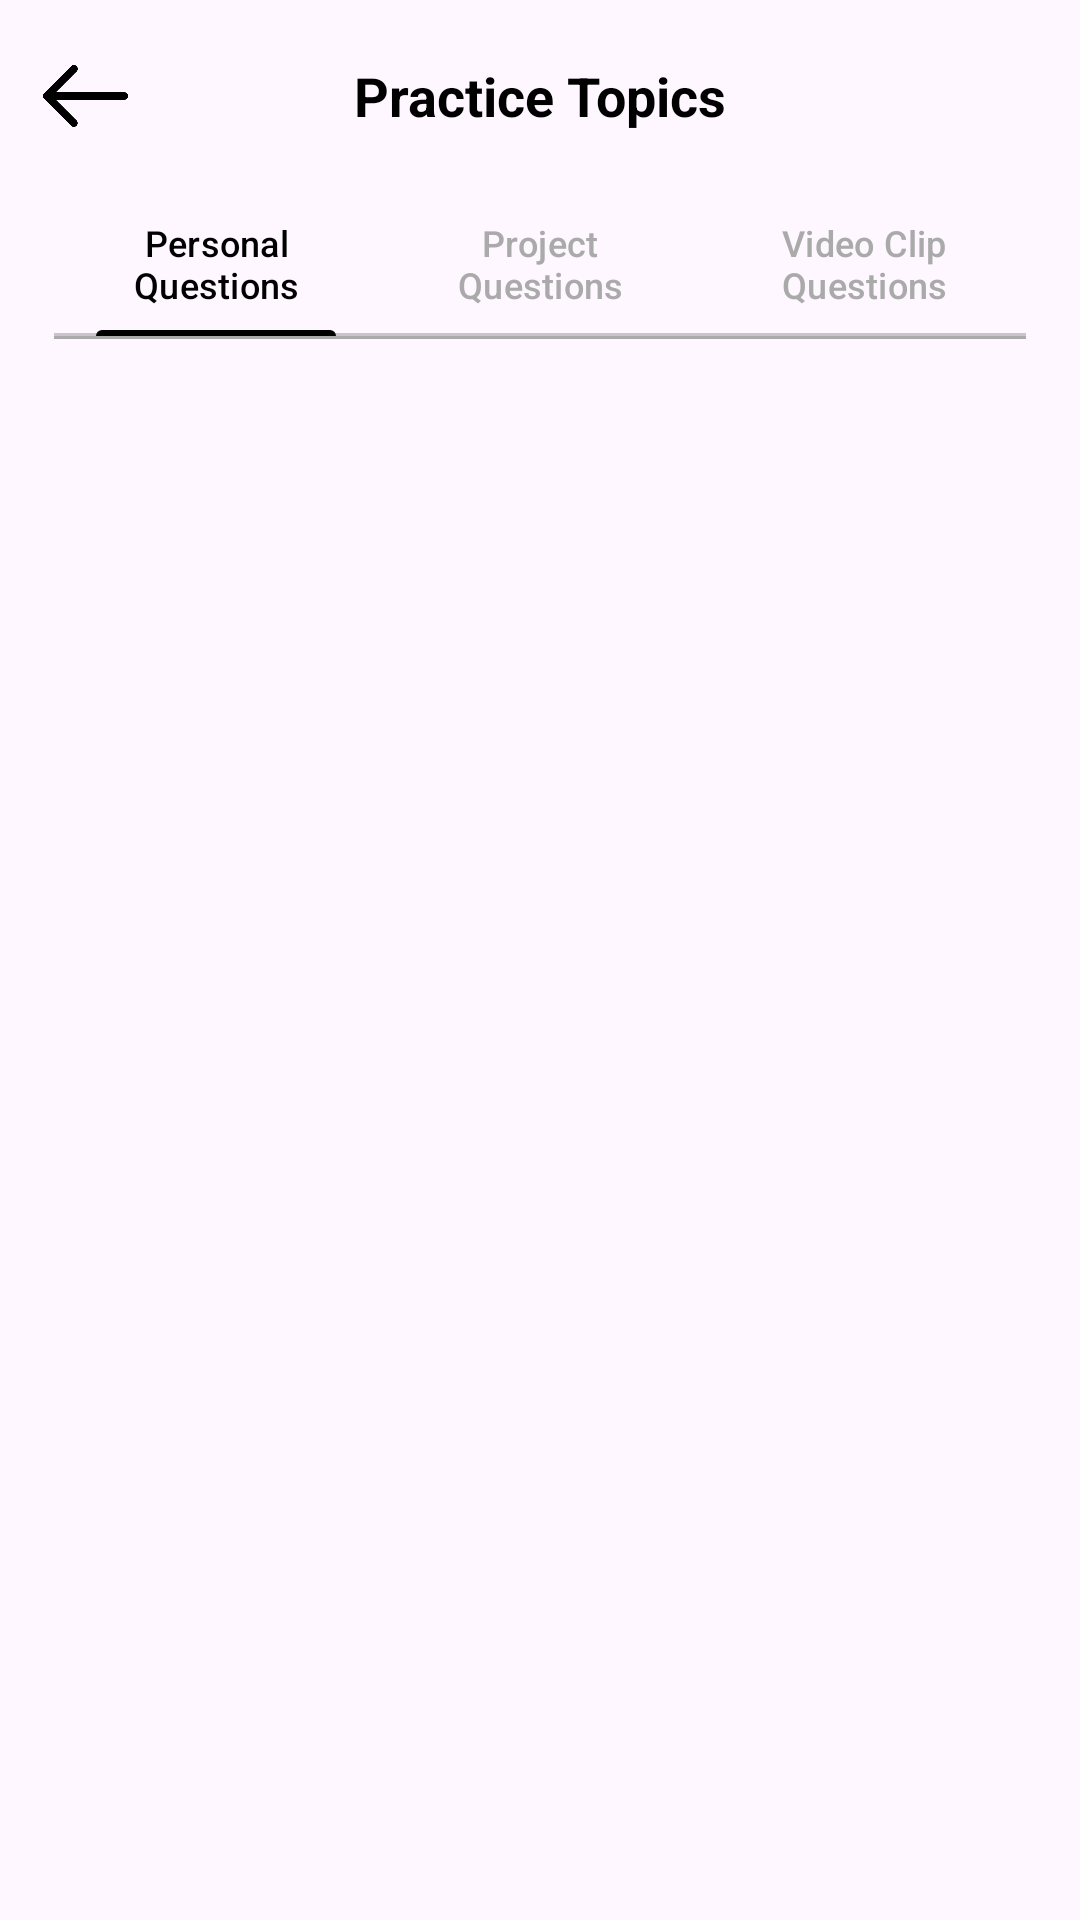

Icons on this 1080 × 1920 Android screen, each with the point to tap as point (x, y):
arrow back: point (85, 96)
